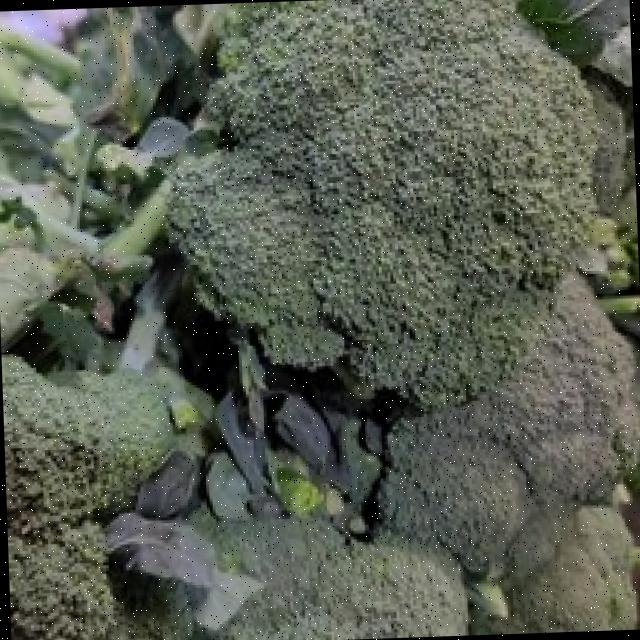Broccoli: (172, 0, 594, 409), (172, 0, 594, 409), (379, 271, 638, 577), (2, 356, 173, 640), (2, 356, 173, 640), (443, 270, 638, 501), (191, 512, 467, 640), (191, 514, 467, 640), (379, 416, 534, 577), (504, 504, 637, 633), (504, 505, 637, 633)
